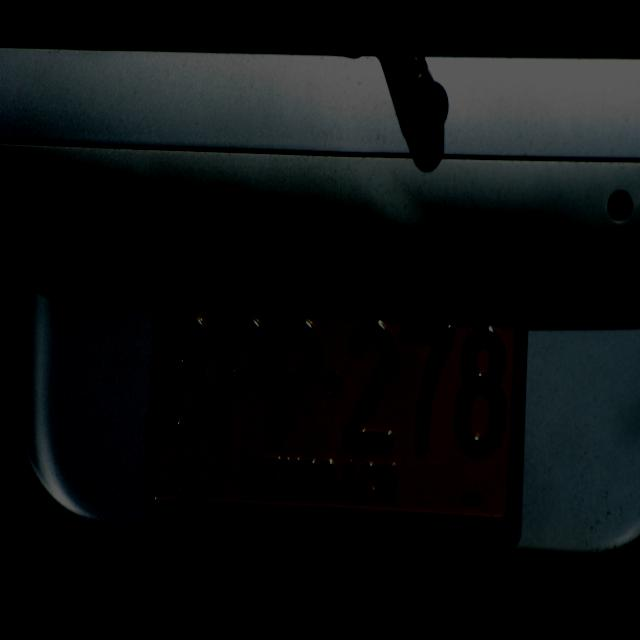particular: (141, 246, 532, 537)
